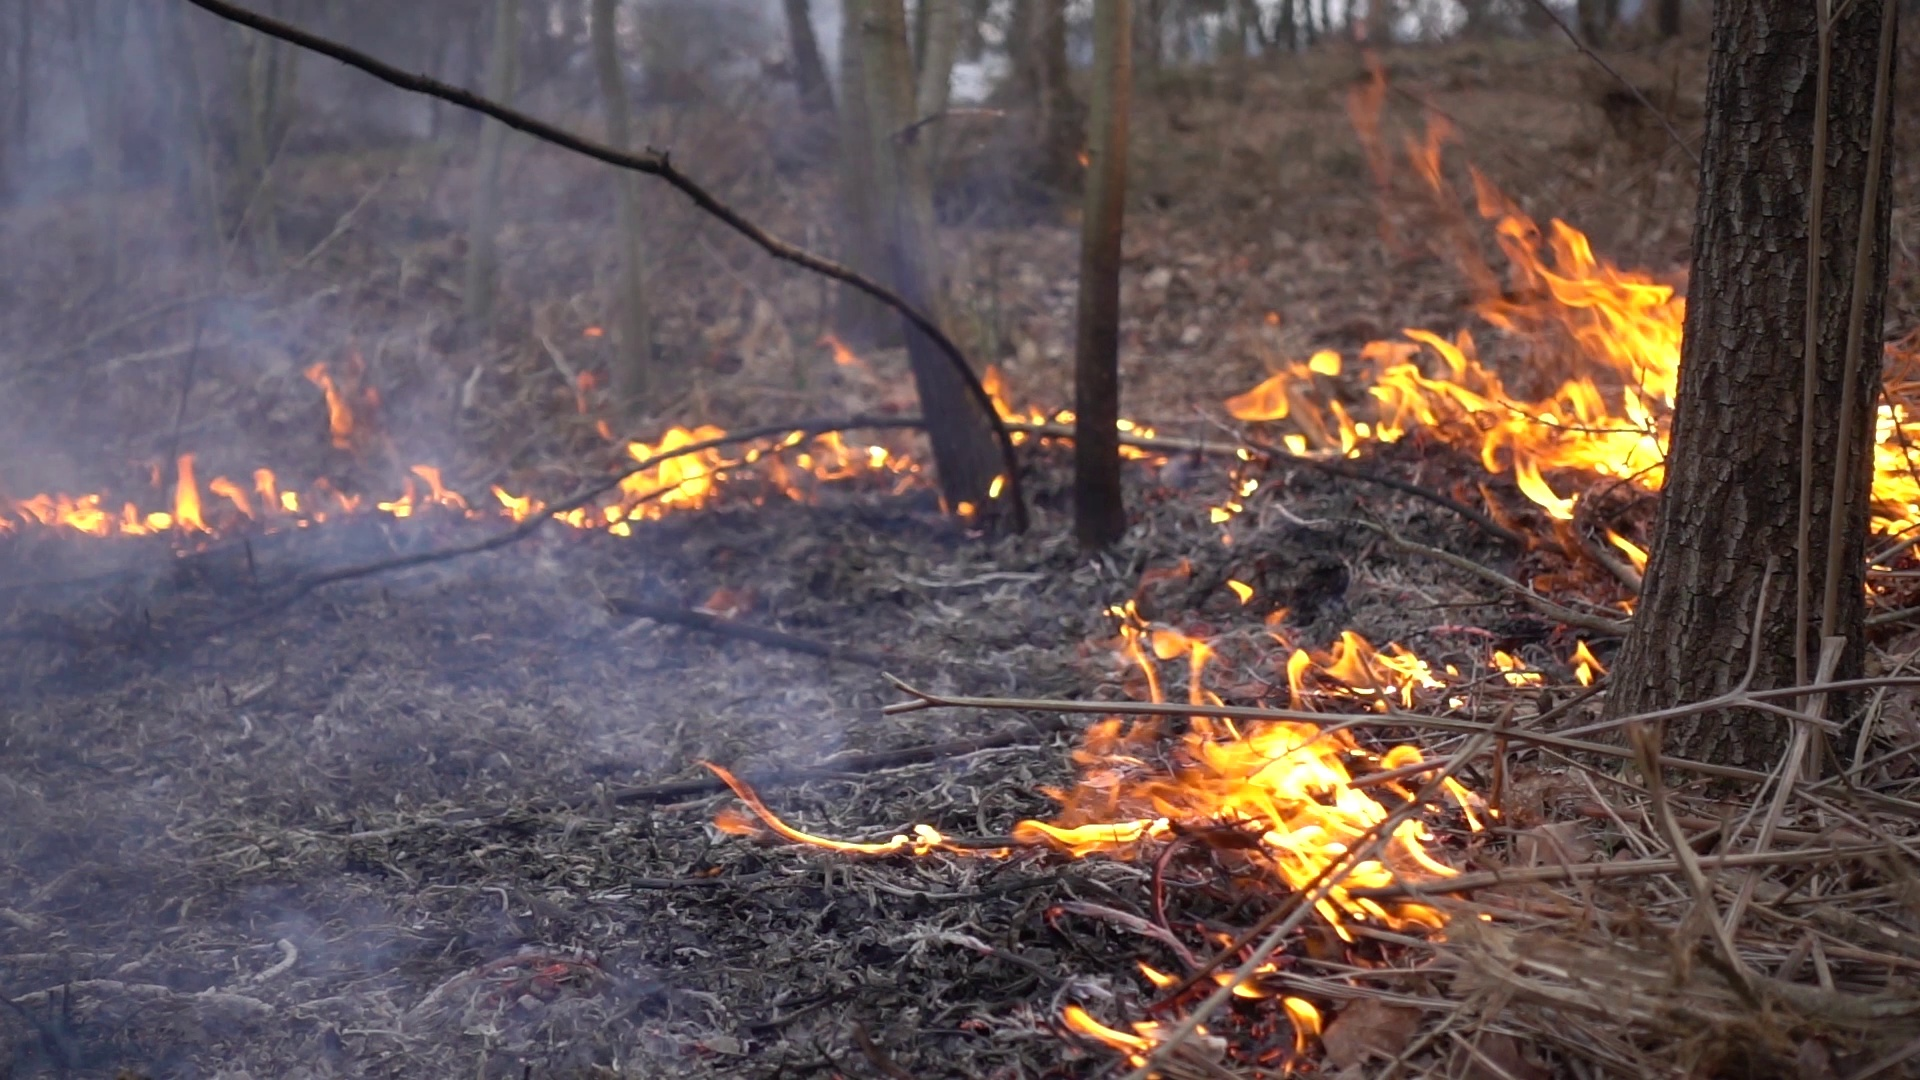fire: (1004, 618, 1484, 938), (1242, 218, 1688, 495), (13, 481, 206, 535), (613, 426, 715, 520), (1873, 407, 1920, 541), (783, 435, 891, 475), (218, 473, 294, 514), (1286, 996, 1323, 1051), (1575, 646, 1601, 691), (495, 488, 530, 516)
